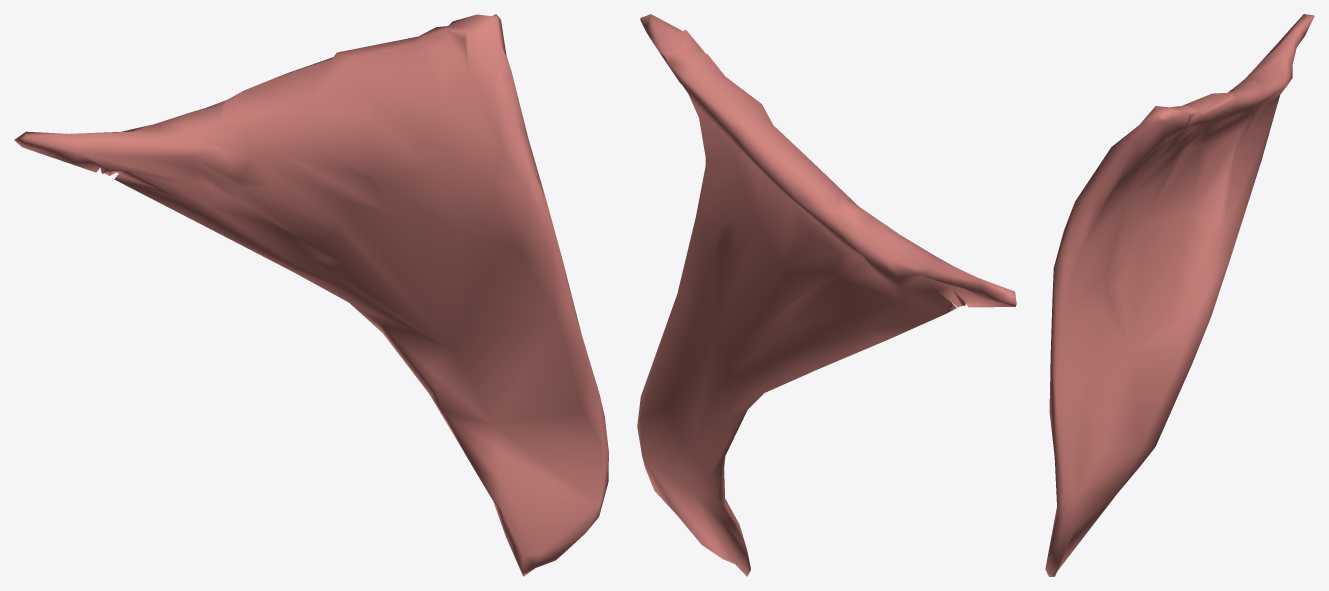
3 views of the same model, side by side, from view 1: azimuth 30°, elevation 25°; view 2: azimuth 150°, elevation 25°; view 3: azimuth 270°, elevation 25° (orthographic). The views are drawn at different scales.
Parts seen in each view (by area): view 1: ZA_edf15c8fb3134b7f; view 2: ZA_edf15c8fb3134b7f; view 3: ZA_edf15c8fb3134b7f.
Part boxes in pixels (box(x1,y1,x2,y2)): ZA_edf15c8fb3134b7f: box(14, 14, 608, 576); ZA_edf15c8fb3134b7f: box(637, 14, 1016, 576); ZA_edf15c8fb3134b7f: box(1045, 14, 1314, 576).
Bounding box in the file's own units: 0.027 × 0.0289 × 0.0149.
